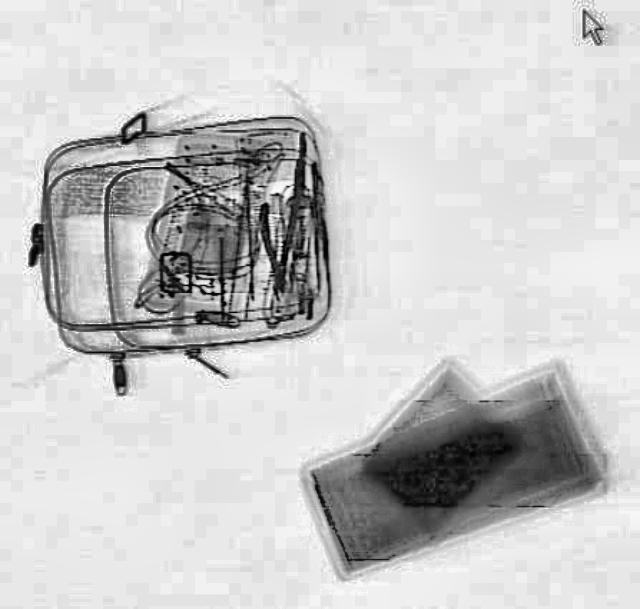Pliers: (256, 200, 296, 298)
